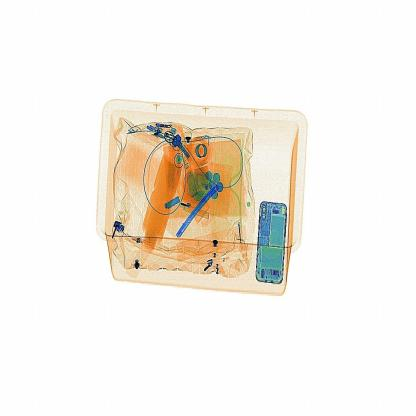pliers: (173, 174, 222, 245)
